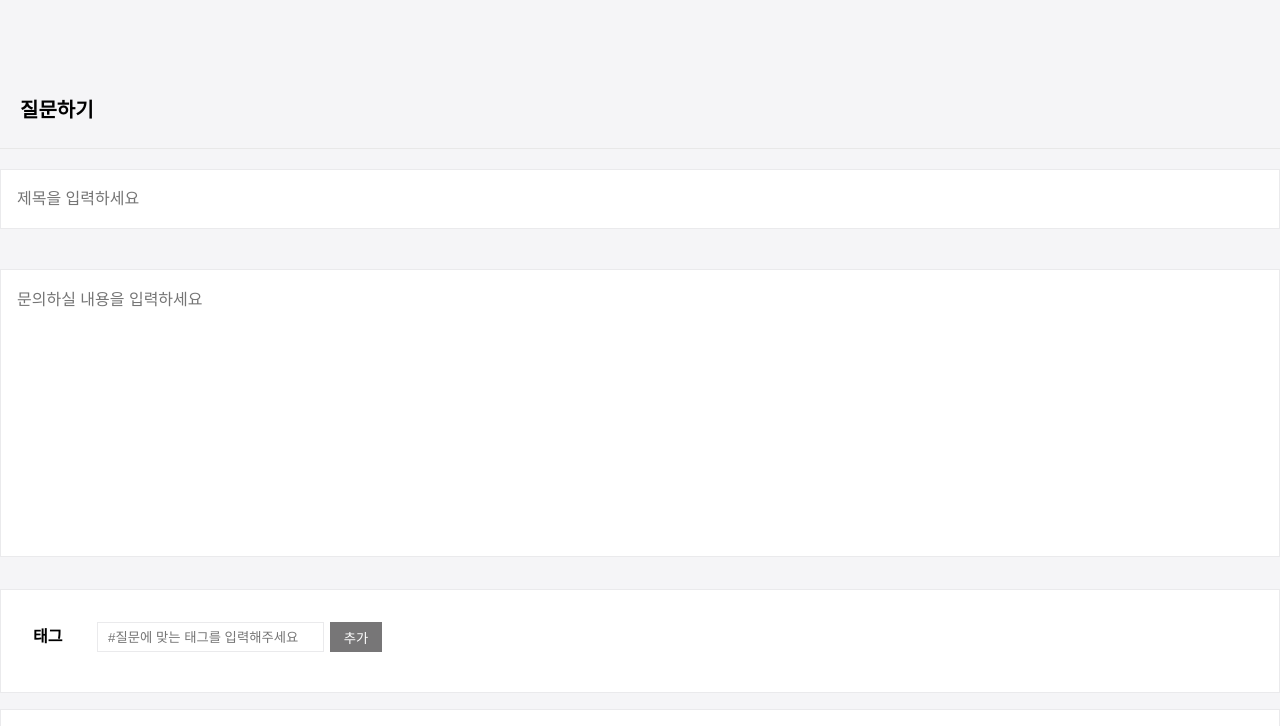
Scenario: QuestionForm › without enough points › renders error message
The width and height of the screenshot is (1280, 726).
Step 1. Type "No 'Access-Control-Allow-Origin' header" into the field with placeholder "제목을 입력하세요" → [640, 199], box [0, 169, 1279, 229]
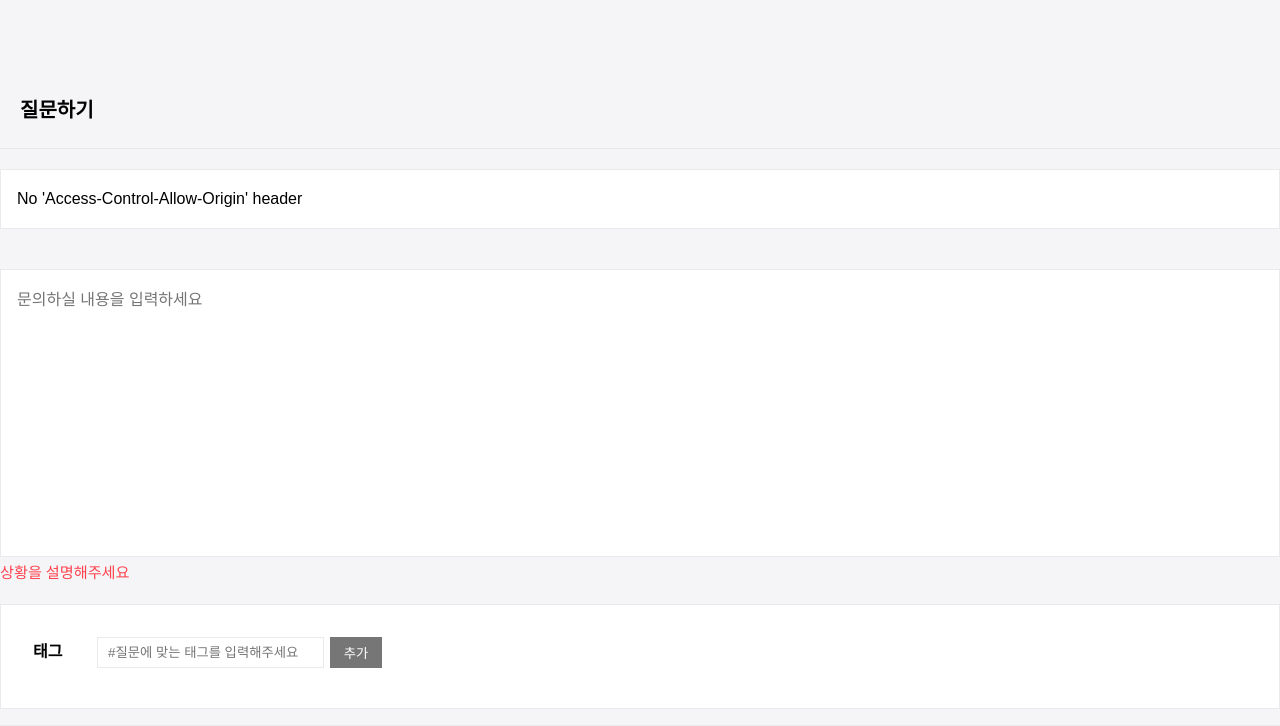
Step 2. Type "서버를 배포 후 특정 요청에서 CORS에러가 발생합니다." into the text box with placeholder "문의하실 내용을 입력하세요" → [640, 413], box [0, 269, 1279, 557]
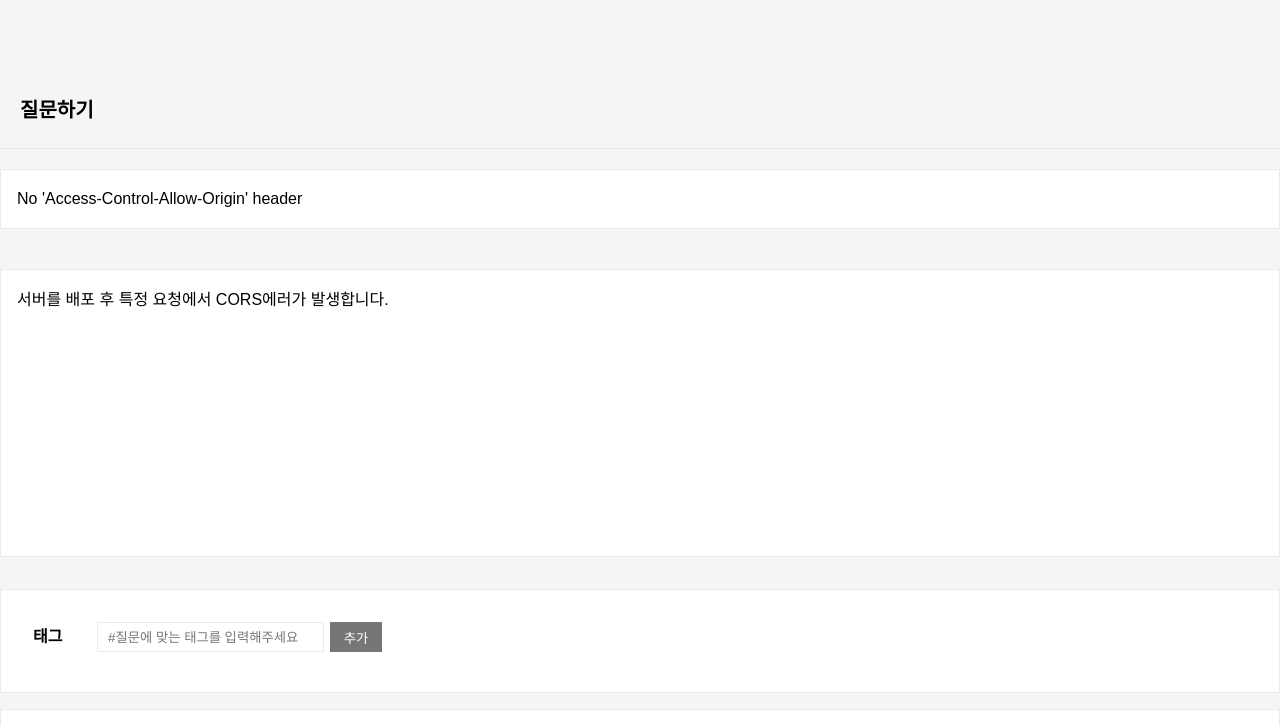
Step 3. Type "Web" into the field labelled "태그" → [210, 637], box [97, 622, 324, 652]
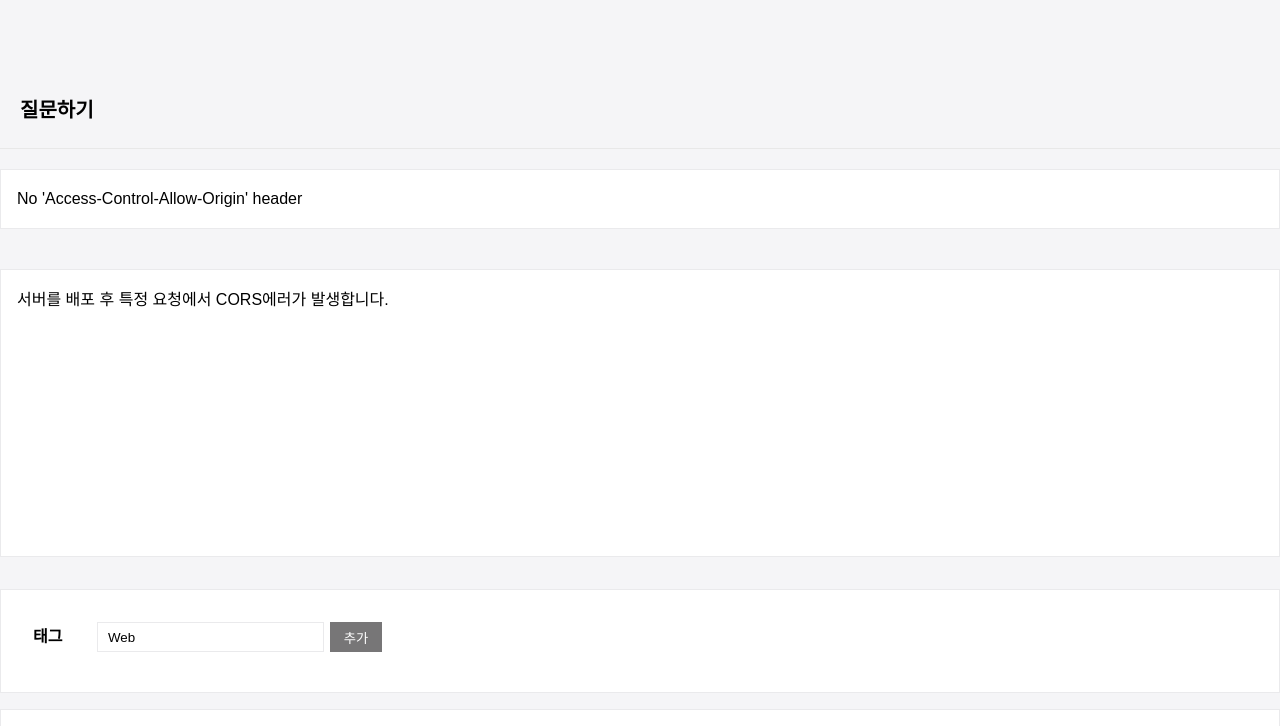
Step 4. Click the button "추가" → [356, 637], box [330, 622, 382, 652]
(page scrolled)
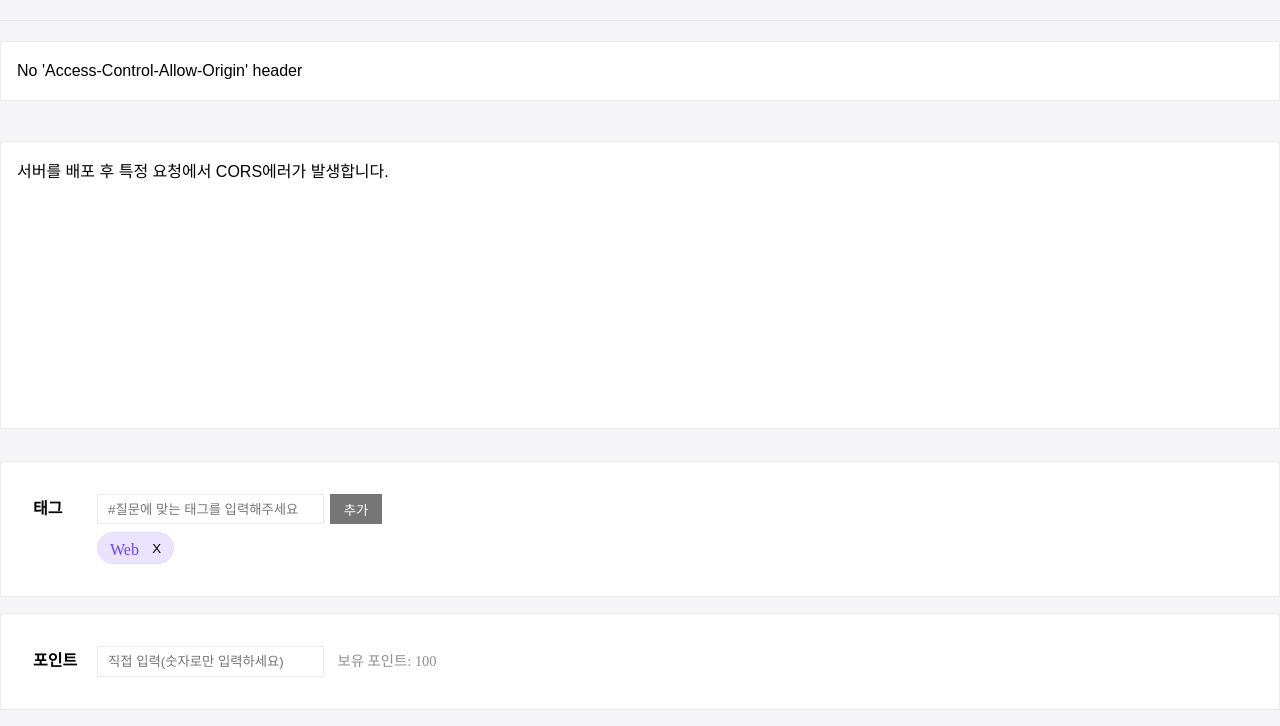
Step 5. Type "2000" into the number field labelled "포인트" → [210, 661], box [97, 646, 324, 677]
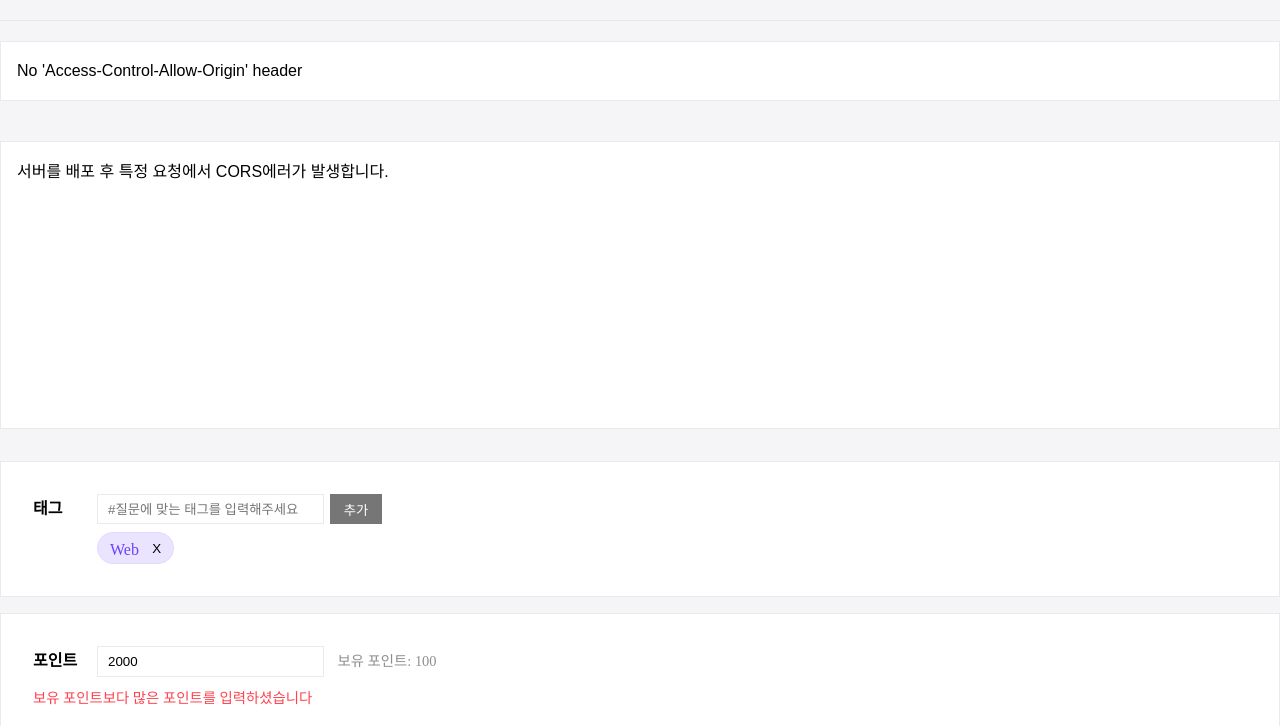
Expected: the text "보유 포인트보다 많은 포인트를 입력하셨습니다" is shown, [33, 690, 312, 706]
